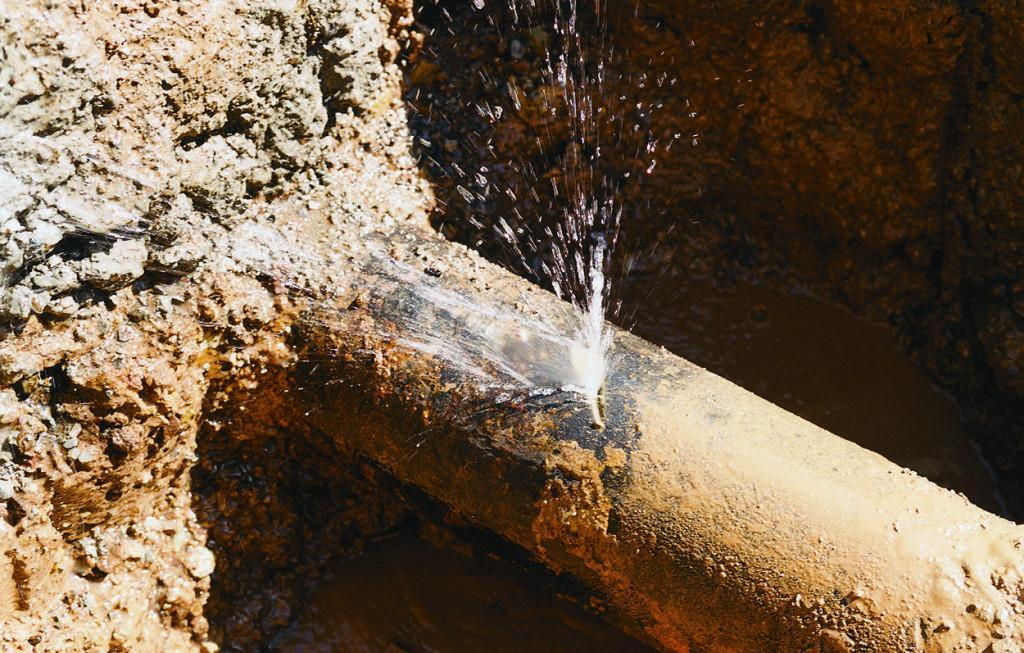pipe burst: (383, 142, 622, 426)
